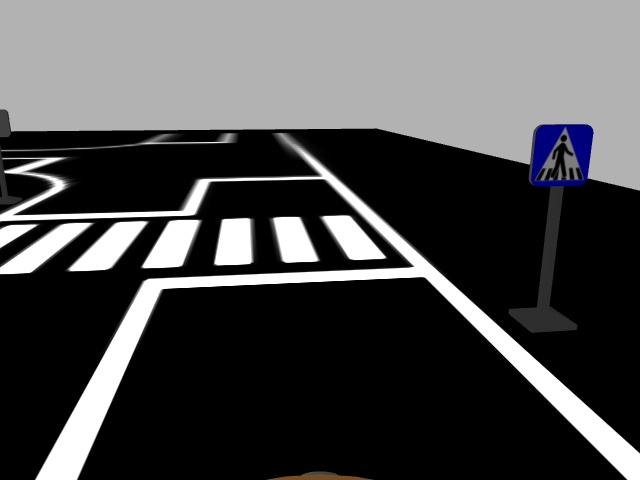crosswalk: (526, 122, 596, 188)
